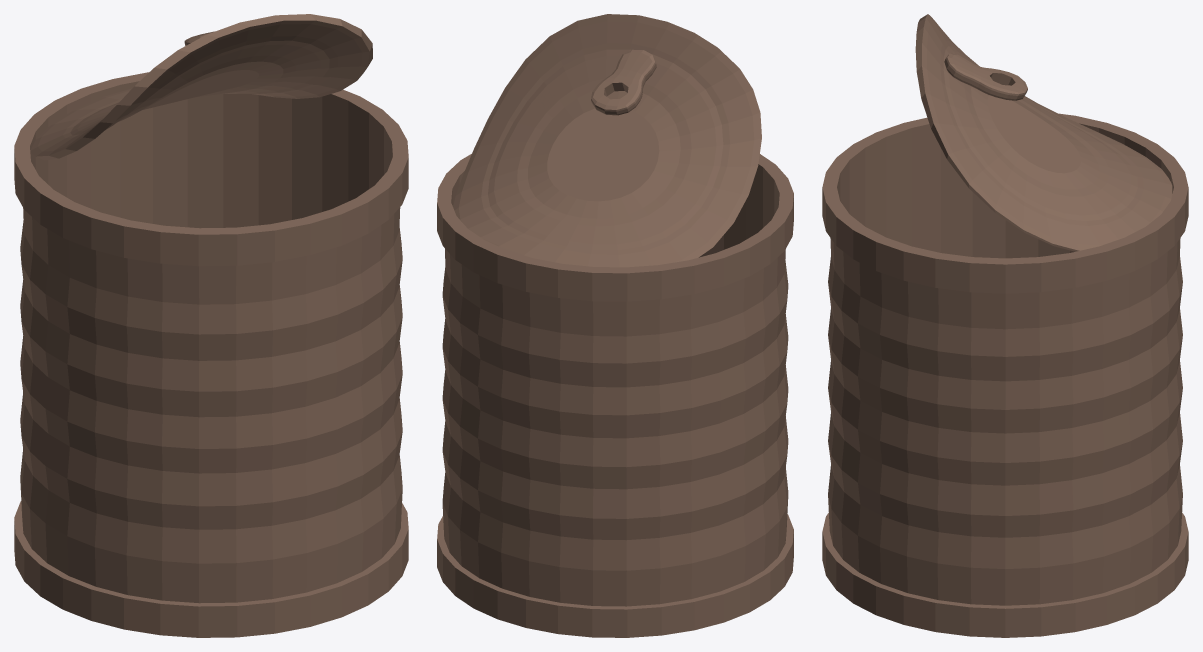
File: puszka.fbx
3 views of the same model, side by side, from view 1: azimuth 30°, elevation 25°; view 2: azimuth 150°, elevation 25°; view 3: azimuth 270°, elevation 25° (orthographic). The views are drawn at different scales.
Visible parts, largest first — view 1: Cylinder.010; view 2: Cylinder.010, Cylinder.001; view 3: Cylinder.010, Cylinder.001.
Part boxes in pixels (<box>): Cylinder.010: <box>14,14,408,637</box>; Cylinder.010: <box>437,14,793,637</box>; Cylinder.001: <box>591,49,656,115</box>; Cylinder.010: <box>822,14,1188,637</box>; Cylinder.001: <box>944,53,1027,100</box>.
Bounding box in the file's own units: 208 × 330 × 208.
